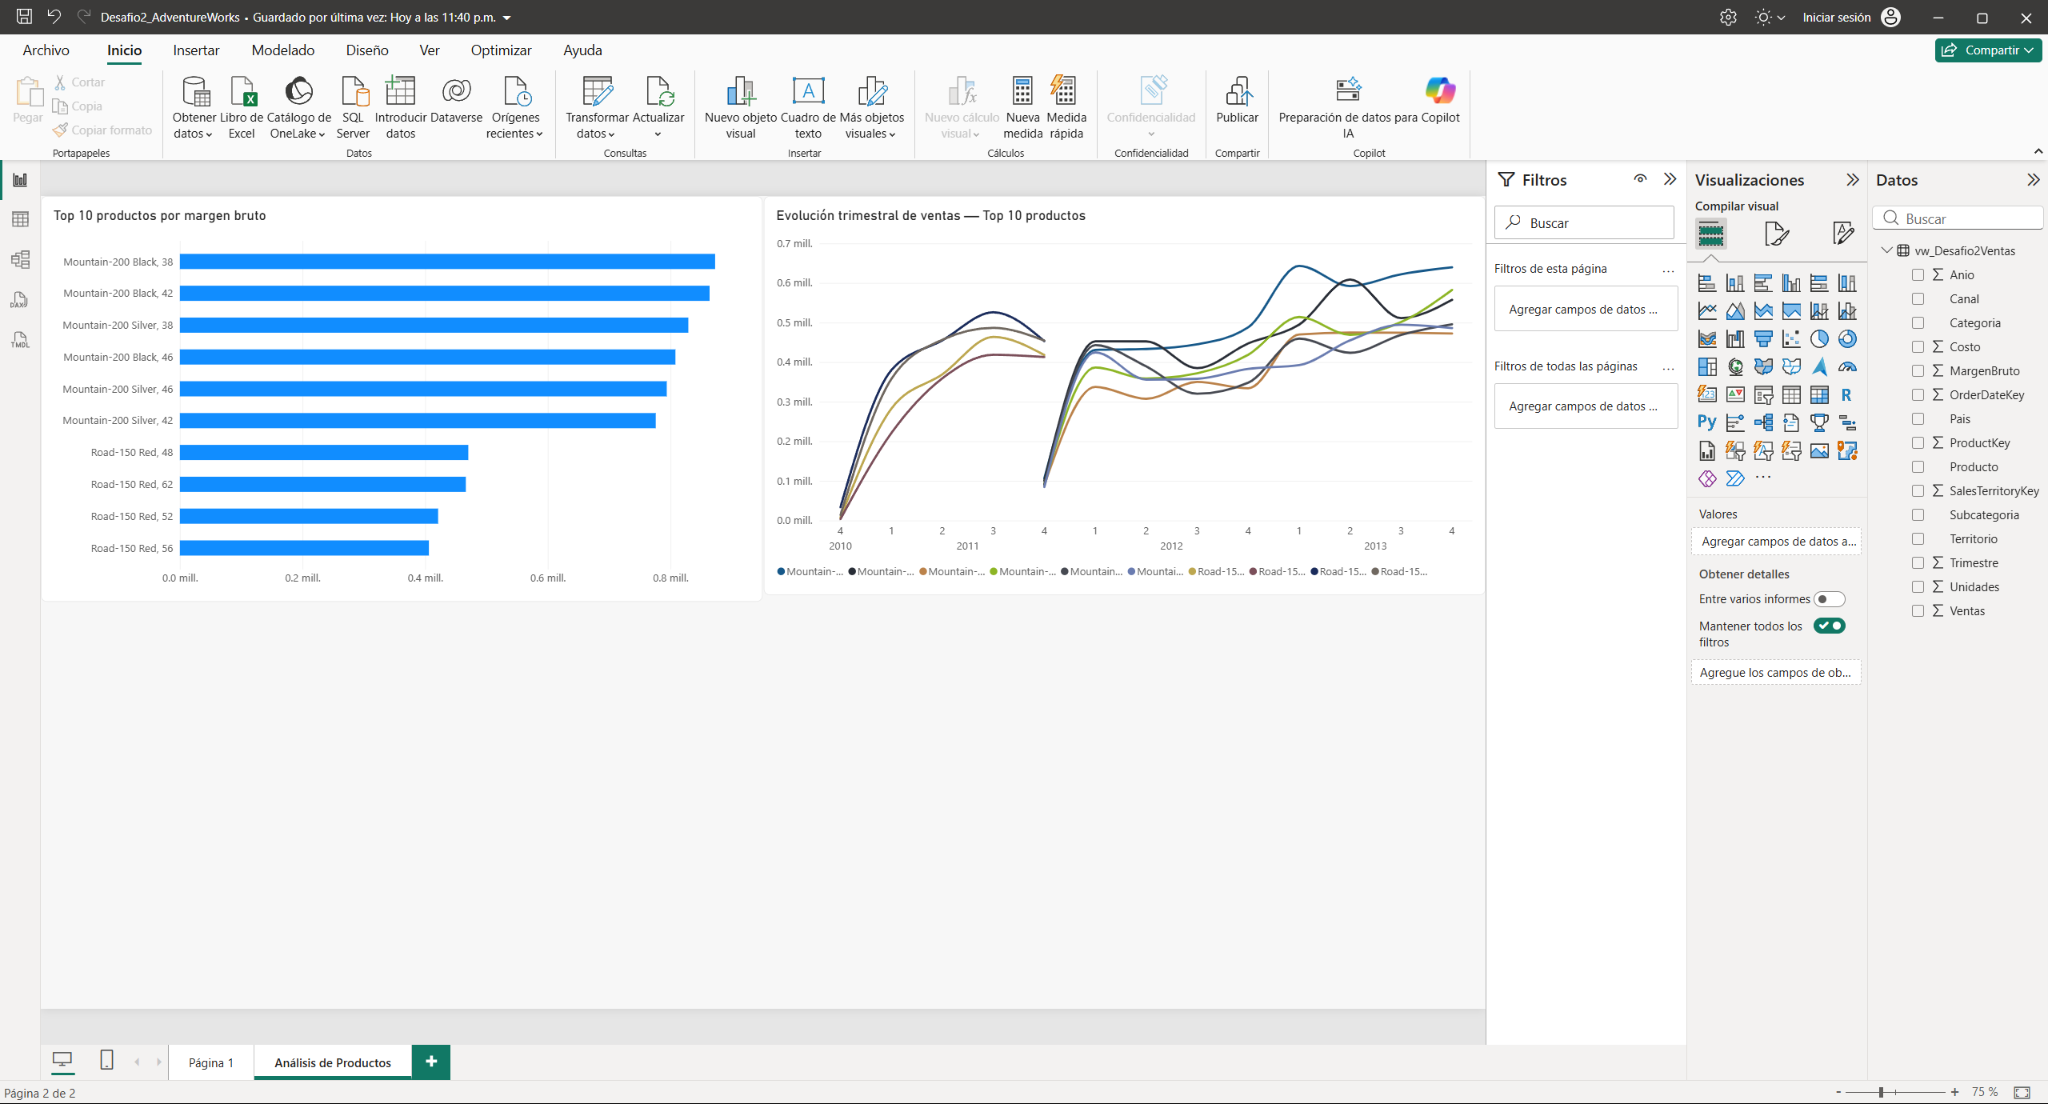

What the dashboard file says about the page in this screenshot:
{"tool":"powerbi","page":{"name":"Análisis de Productos","canvas":[1920,1080],"ordinal":1},"visuals":[{"type":"clusteredBarChart","title":"Top 10 productos por margen bruto","fields":{"Category":["vw_Desafio2Ventas.Producto"],"Y":["Sum(vw_Desafio2Ventas.MargenBruto)"]},"box":[0,0,959.5,539.5],"z":0},{"type":"lineChart","title":"Evolución trimestral de ventas — Top 10 productos","fields":{"Category":["vw_Desafio2Ventas.Anio","vw_Desafio2Ventas.Trimestre"],"Series":["vw_Desafio2Ventas.Producto"],"Y":["Sum(vw_Desafio2Ventas.Ventas)"]},"box":[960.8,0,959,530],"z":1}]}

Visuals, with their boxes on the page's 1920x1080 design canvas (x1, y1, x2, y2). These are canvas units, not pixel positions in the 2048x1104 screenshot, which may show the page scaled, cropped or inside an application window:
"Top 10 productos por margen bruto" clusteredBarChart: (left=0, top=0, right=960, bottom=540)
"Evolución trimestral de ventas — Top 10 productos" lineChart: (left=961, top=0, right=1920, bottom=530)
